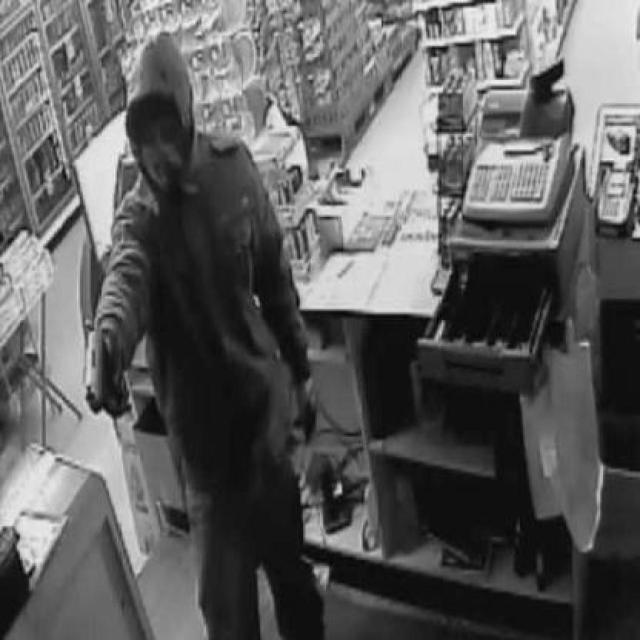weapon: (80, 319, 131, 422)
